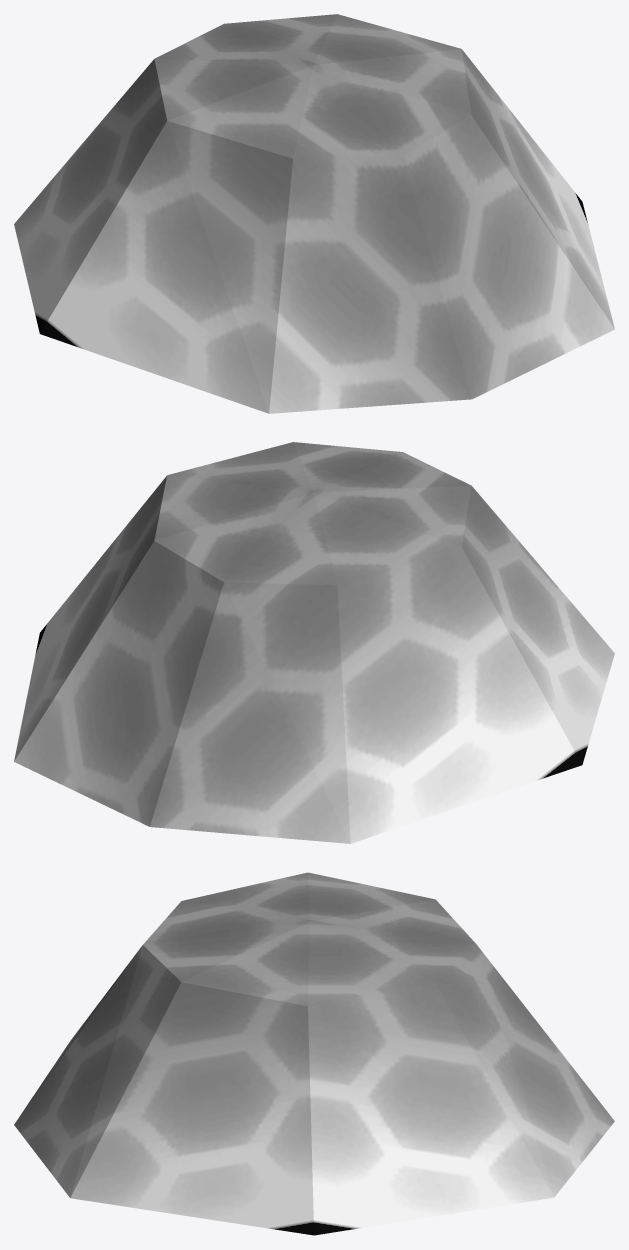
Rendered from 0105_Mesh_wasidan_02.glb.
3 renders of one model, top to bottom at view 1: azimuth 30°, elevation 25°; view 2: azimuth 150°, elevation 25°; view 3: azimuth 270°, elevation 25°, orthographic. The views are drawn at different scales.
Size of the model in its own units: 2.14 by 0.8209 by 2.2.
1 material, 1 textured.
